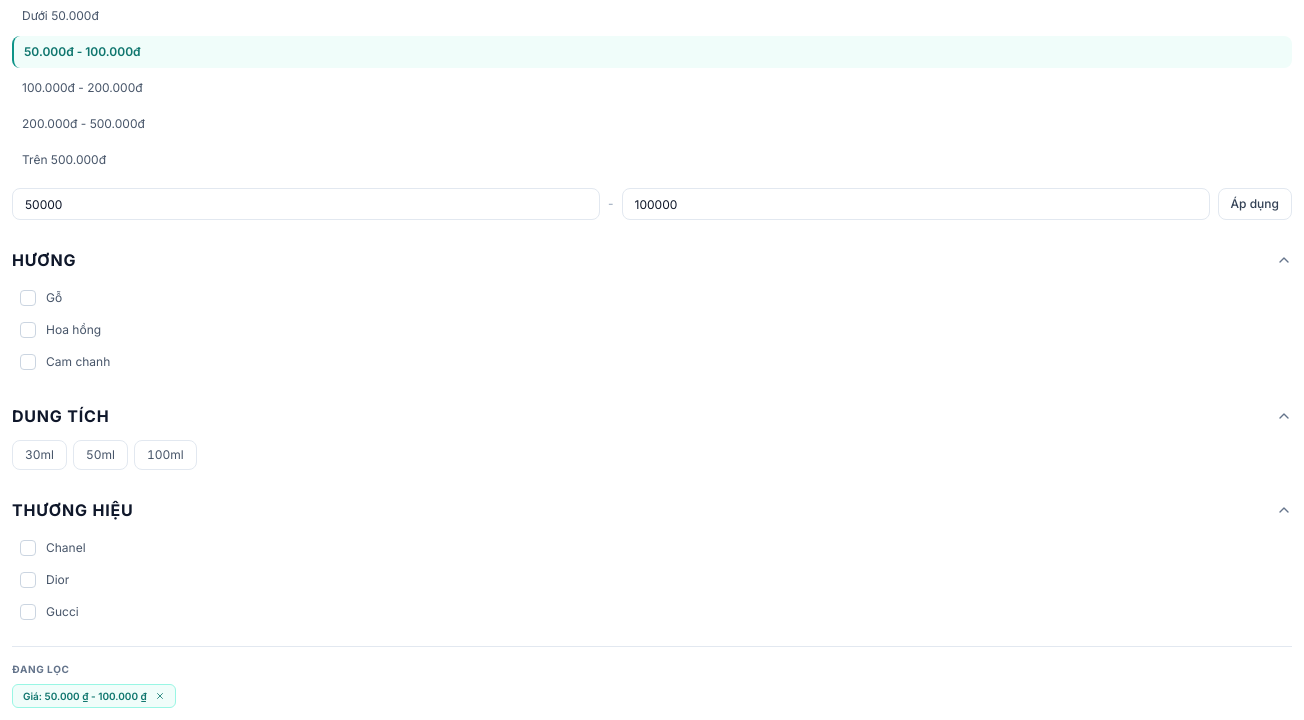
Test: FilterSidebar › Active filter count, header clear button, and tags section › renders and removes active filter badge for price with both min and max
The image size is (1304, 720).
(page scrolled)
Click the button named "Xóa bộ lọc giá" at (160, 696), box 155,691 -> 165,701
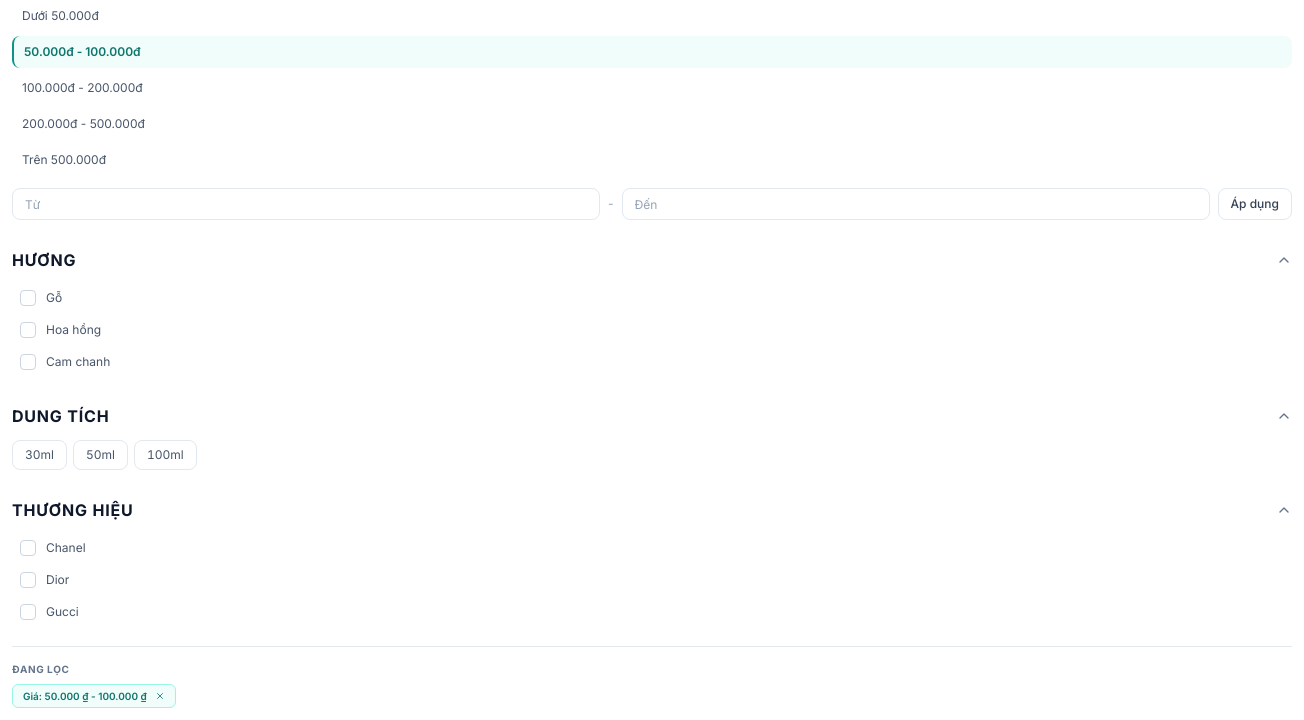
Expected: the number field with placeholder "Từ" is not empty, 12,188 -> 600,220
Expected: the number field with placeholder "Đến" is not empty, 622,188 -> 1210,220
